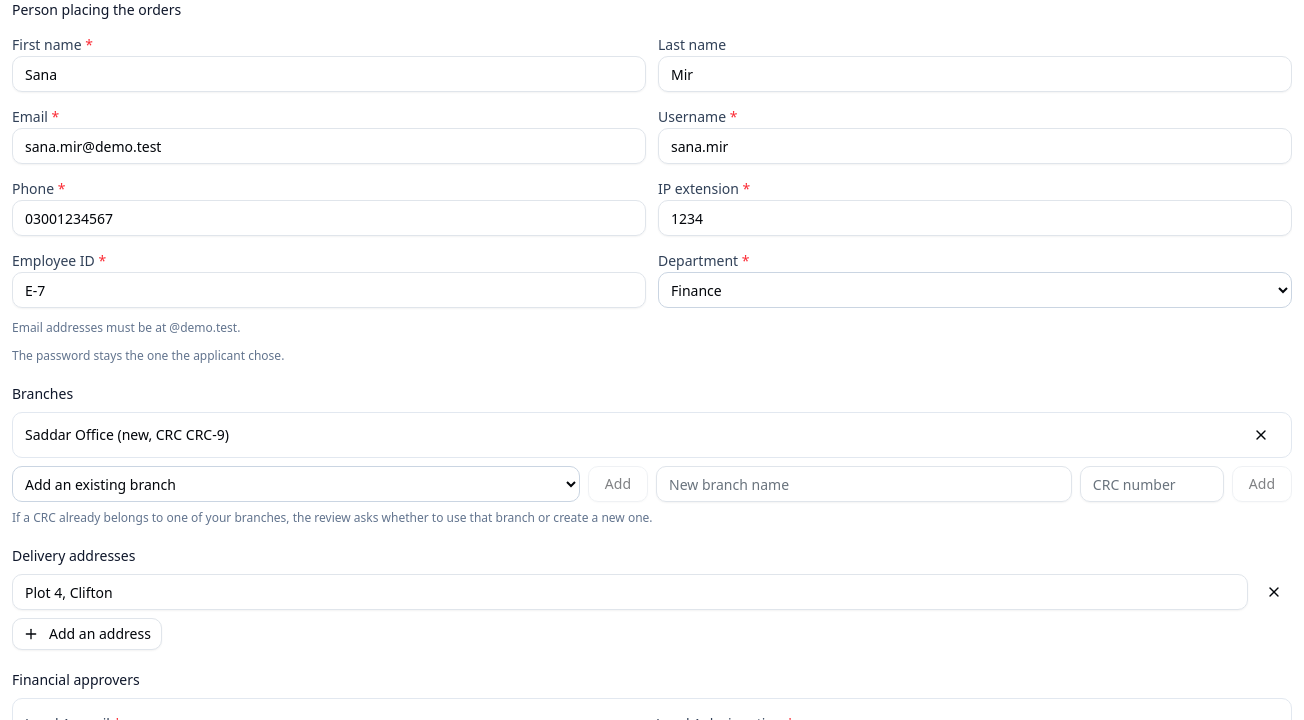
Test: DepartmentJoinEditForm › names the problem and sends nothing when an email is off the domain
Replace the text in the field labelled "Email *" with "sana@elsewhere.test" at (329, 146), box [12, 128, 646, 164]
(page scrolled)
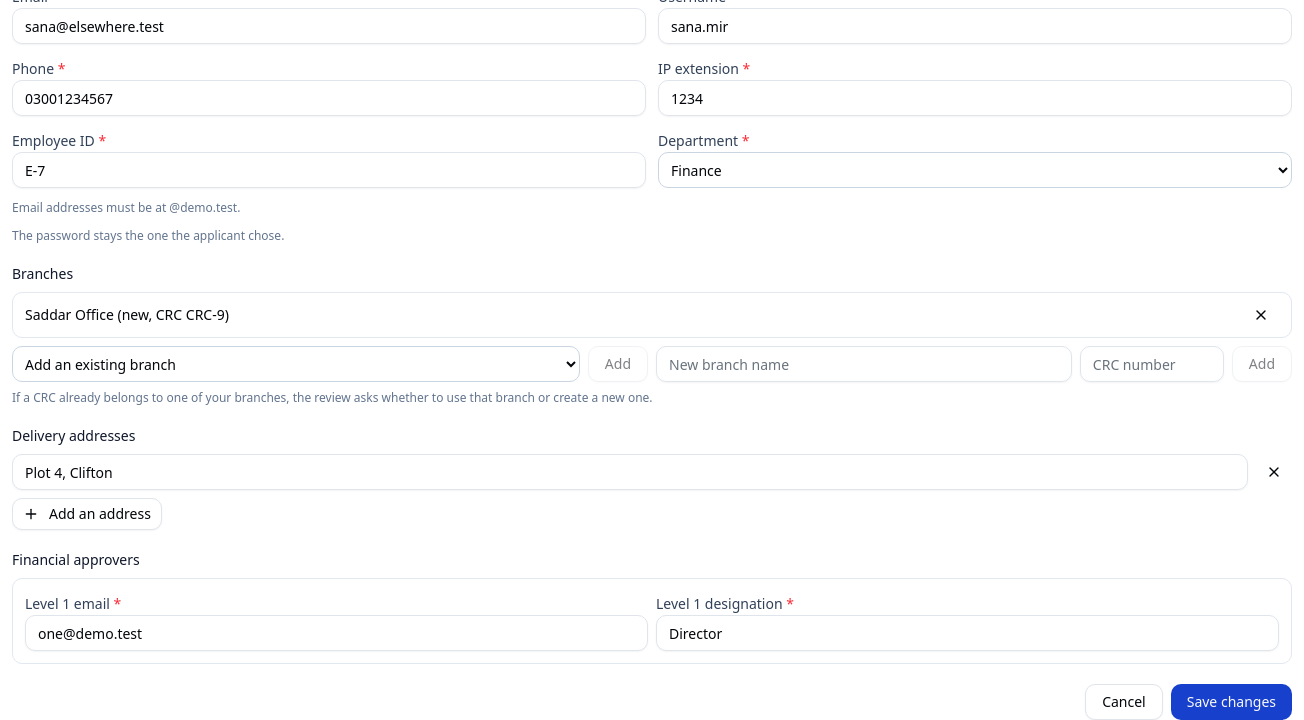
Click the button "Save changes".
click(1231, 702)  # box [1171, 684, 1292, 719]
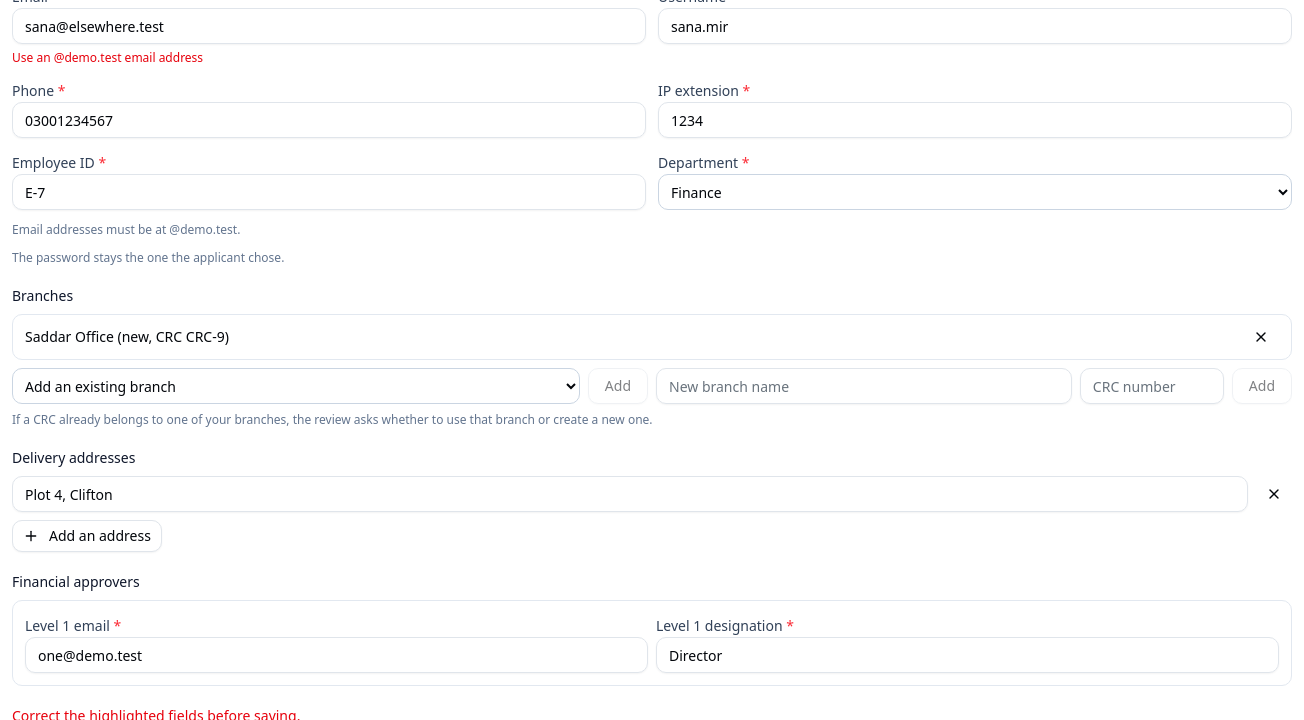
Now the text "Use an @demo.test email address" is shown, box [12, 49, 203, 66]
